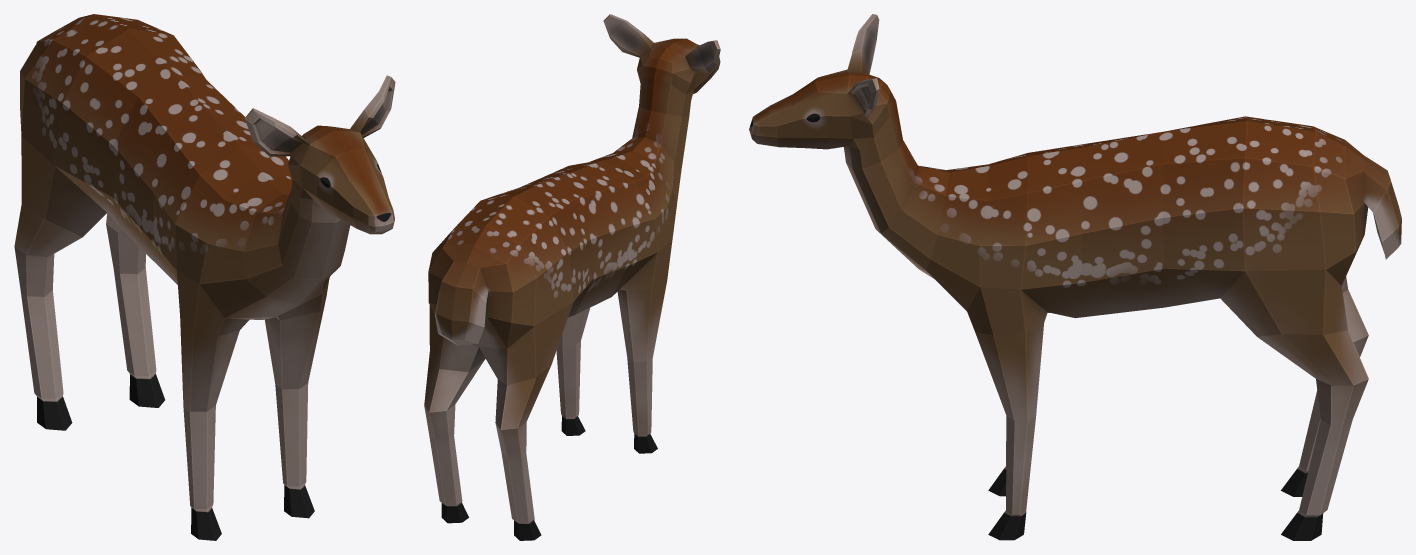
Rendered from MuleDeer.gltf.
The picture shows the model from 3 angles, left to right: view 1: azimuth 30°, elevation 25°; view 2: azimuth 150°, elevation 25°; view 3: azimuth 270°, elevation 25°; orthographic projection. The views are drawn at different scales.
Visible parts, largest first — view 1: node-0; view 2: node-0; view 3: node-0.
Part boxes in pixels (x1,y1,x2,y2): node-0: (14,14,395,540); node-0: (424,14,720,540); node-0: (749,14,1401,540).
Bounding box in the file's own units: 3.42 × 10.34 × 13.13.
1 material, 1 textured.
